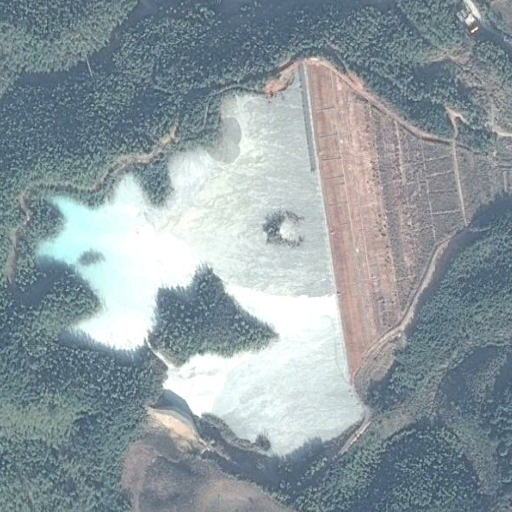tp: (30, 57, 511, 459)
